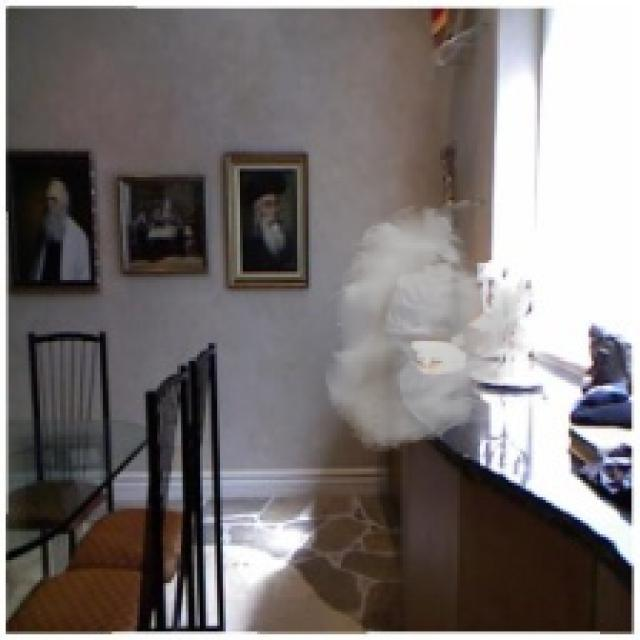smoke: (323, 203, 534, 454)
